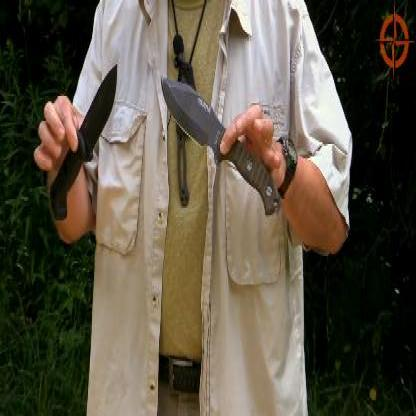knife: (159, 72, 281, 216), (49, 58, 118, 223)
